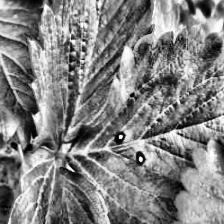Leaf Spot: (65, 23, 224, 224), (27, 0, 157, 153), (4, 143, 121, 224), (0, 0, 45, 151), (165, 130, 224, 224)
